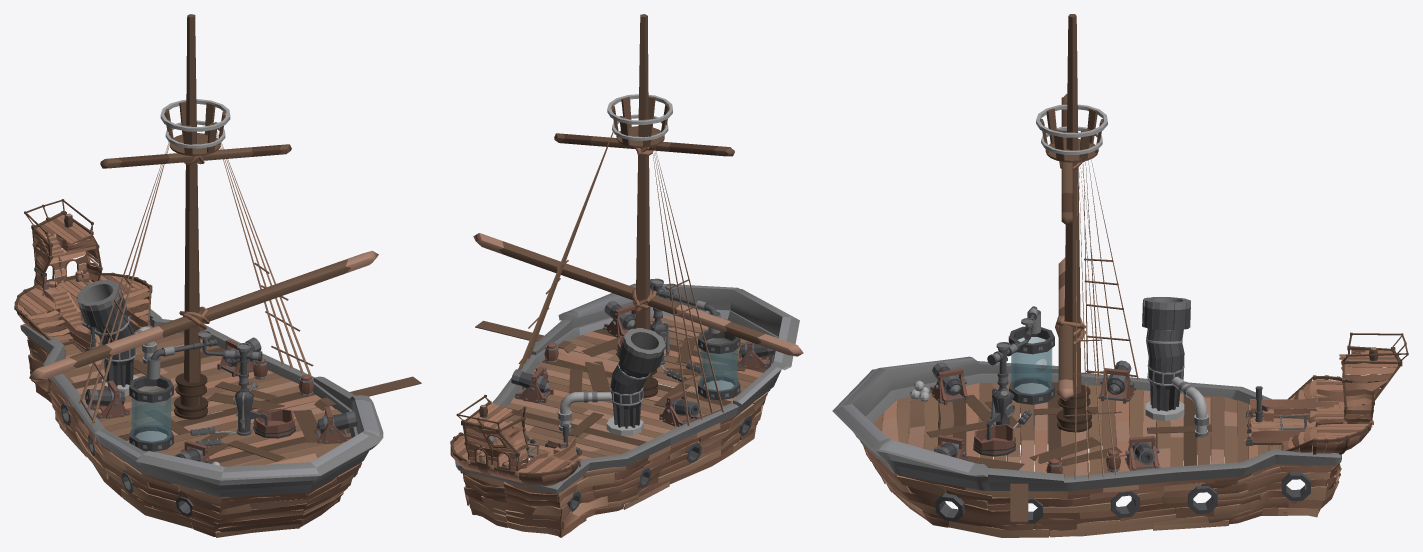
3 views of the same model, side by side, from view 1: azimuth 30°, elevation 25°; view 2: azimuth 150°, elevation 25°; view 3: azimuth 270°, elevation 25° (orthographic). The views are drawn at different scales.
Parts seen in each view (by area): view 1: segment_1; view 2: segment_1; view 3: segment_1.
Boxes of the visible parts, box(x1,y1,x2,y2) form: segment_1: box(14, 14, 421, 537); segment_1: box(450, 14, 803, 537); segment_1: box(832, 14, 1408, 537).
Bounding box in the file's own units: 60.08 × 71.67 × 79.59.
